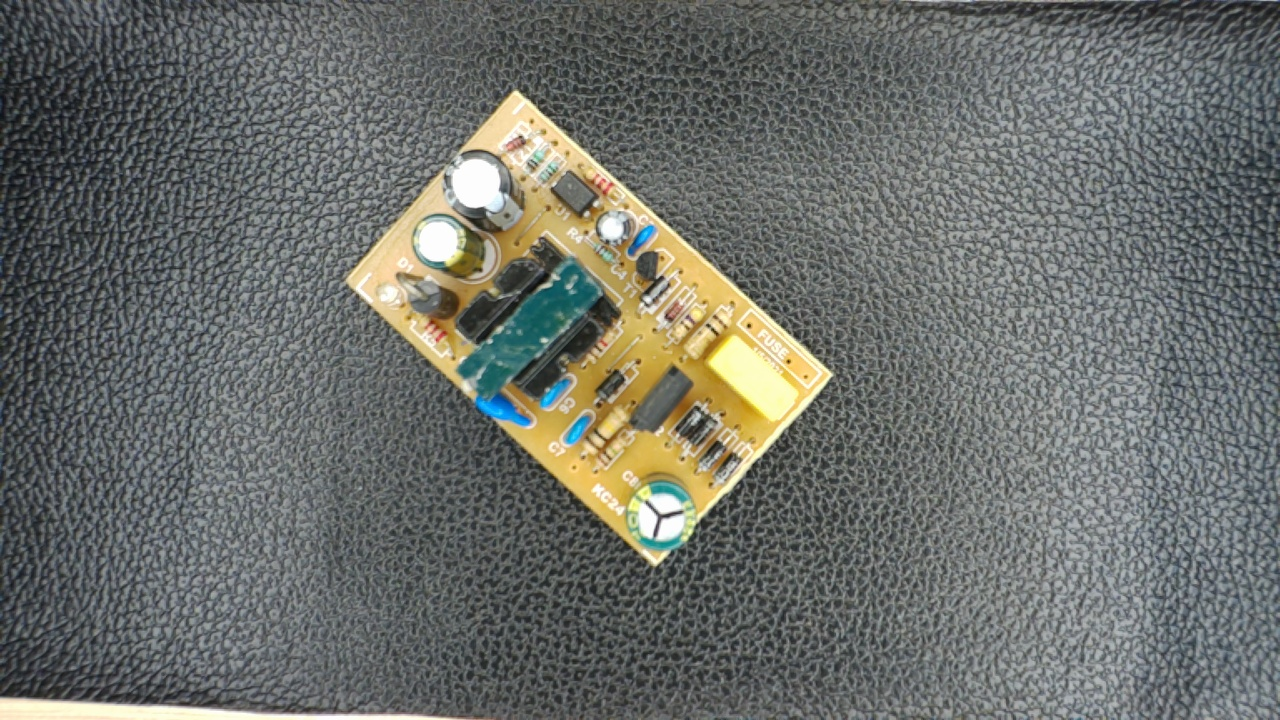hv_capacitor: (621, 470, 699, 552)
mov: (470, 386, 539, 429)
optocoupler: (549, 168, 603, 219)
